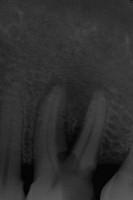Dental Caries: (40, 68, 106, 151)
